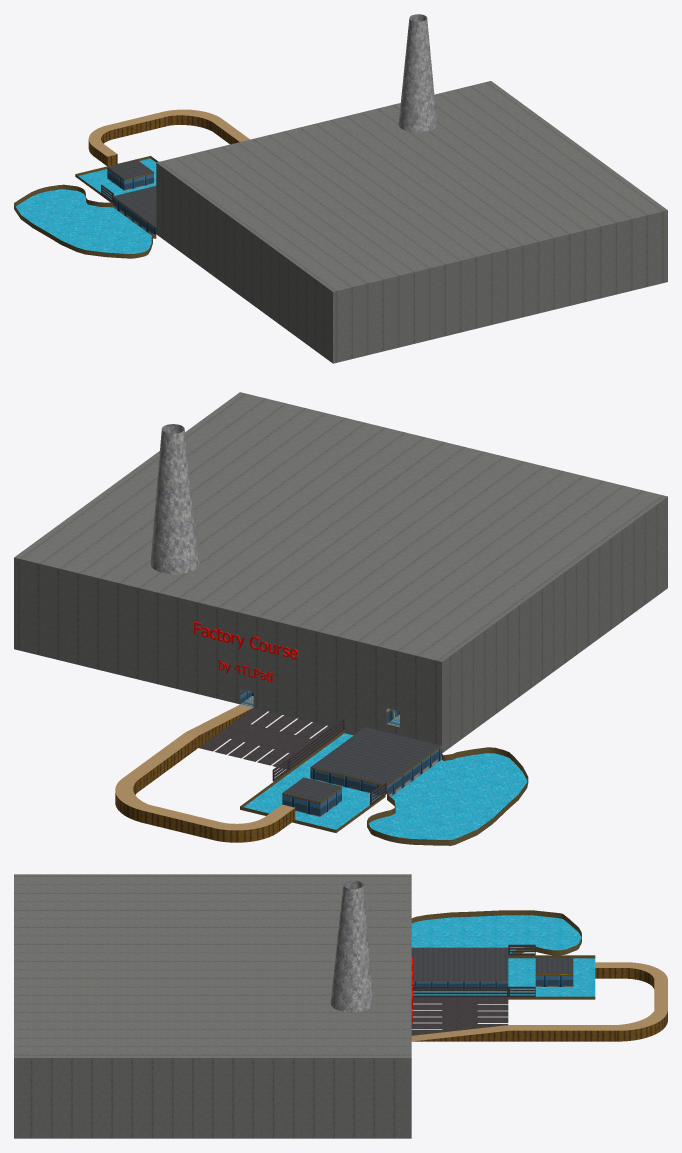
The picture shows the model from 3 angles, top to bottom: view 1: azimuth 30°, elevation 25°; view 2: azimuth 150°, elevation 25°; view 3: azimuth 270°, elevation 25°; orthographic projection. The views are drawn at different scales.
Visible parts, largest first — view 1: Unbenannt_Main-Metall_gefalzt.001, Unbenannt_Main-Wasser_glitzernd.001, Unbenannt_Main-Stein_Ader_grau.001, Unbenannt_Main-Material15.001, Unbenannt_Main-Material8.001, Unbenannt_Main-Material11.001, Unbenannt_Main-Bodenbelag_Sand_fein.001, Unbenannt_Main-Material12.001; view 2: Unbenannt_Main-Metall_gefalzt.001, Unbenannt_Main-Wasser_glitzernd.001, Unbenannt_Main-Stein_Ader_grau.001, Unbenannt_Main-Asphalt_neu.001, Unbenannt_Main-Material11.001, Unbenannt_Main-Material15.001, Unbenannt_Main-Bodenbelag_Sand_fein.001, Unbenannt_Main-Material8.001, Unbenannt_Main-Material12.001, Unbenannt_Main-Material16.001; view 3: Unbenannt_Main-Metall_gefalzt.001, Unbenannt_Main-Wasser_glitzernd.001, Unbenannt_Main-Asphalt_neu.001, Unbenannt_Main-Stein_Ader_grau.001, Unbenannt_Main-Material11.001, Unbenannt_Main-Material15.001, Unbenannt_Main-Bodenbelag_Sand_fein.001, Unbenannt_Main-Material8.001, Unbenannt_Main-Material12.001, Unbenannt_Main-Material3.001.
Boxes of the visible parts, x1=… form: Unbenannt_Main-Metall_gefalzt.001: x1=156, y1=81, x2=667, y2=363; Unbenannt_Main-Wasser_glitzernd.001: x1=15, y1=158, x2=156, y2=253; Unbenannt_Main-Stein_Ader_grau.001: x1=398, y1=14, x2=436, y2=132; Unbenannt_Main-Material15.001: x1=88, y1=115, x2=239, y2=166; Unbenannt_Main-Material8.001: x1=14, y1=156, x2=158, y2=258; Unbenannt_Main-Material11.001: x1=108, y1=160, x2=156, y2=227; Unbenannt_Main-Bodenbelag_Sand_fein.001: x1=88, y1=109, x2=249, y2=156; Unbenannt_Main-Material12.001: x1=107, y1=168, x2=156, y2=235; Unbenannt_Main-Metall_gefalzt.001: x1=14, y1=392, x2=667, y2=753; Unbenannt_Main-Wasser_glitzernd.001: x1=244, y1=733, x2=527, y2=839; Unbenannt_Main-Stein_Ader_grau.001: x1=150, y1=424, x2=199, y2=574; Unbenannt_Main-Asphalt_neu.001: x1=199, y1=707, x2=386, y2=805; Unbenannt_Main-Material11.001: x1=282, y1=727, x2=441, y2=802; Unbenannt_Main-Material15.001: x1=115, y1=708, x2=295, y2=842; Unbenannt_Main-Bodenbelag_Sand_fein.001: x1=115, y1=704, x2=294, y2=830; Unbenannt_Main-Material8.001: x1=240, y1=730, x2=528, y2=845; Unbenannt_Main-Material12.001: x1=240, y1=688, x2=441, y2=816; Unbenannt_Main-Material16.001: x1=194, y1=621, x2=298, y2=681; Unbenannt_Main-Metall_gefalzt.001: x1=14, y1=874, x2=411, y2=1138; Unbenannt_Main-Wasser_glitzernd.001: x1=411, y1=915, x2=595, y2=996; Unbenannt_Main-Asphalt_neu.001: x1=411, y1=944, x2=535, y2=1035; Unbenannt_Main-Stein_Ader_grau.001: x1=330, y1=880, x2=373, y2=1012; Unbenannt_Main-Material11.001: x1=411, y1=947, x2=573, y2=980; Unbenannt_Main-Material15.001: x1=412, y1=968, x2=667, y2=1041; Unbenannt_Main-Bodenbelag_Sand_fein.001: x1=411, y1=962, x2=667, y2=1041; Unbenannt_Main-Material8.001: x1=411, y1=910, x2=595, y2=999; Unbenannt_Main-Material12.001: x1=413, y1=975, x2=573, y2=989; Unbenannt_Main-Material3.001: x1=411, y1=1003, x2=508, y2=1029.
Size of what is drawn, in the model's own units: 134038 by 55997 by 162183.
22 materials, 22 textured.
